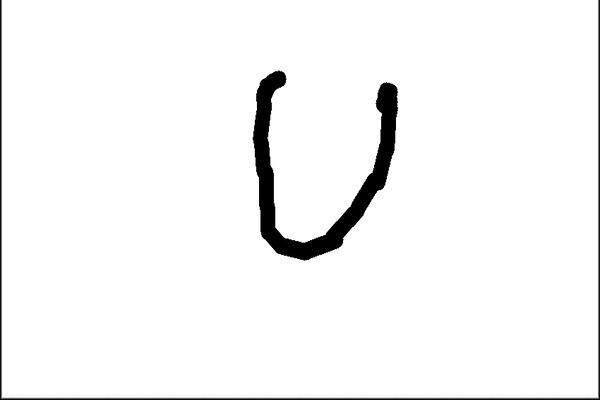U: (241, 61, 404, 268)
